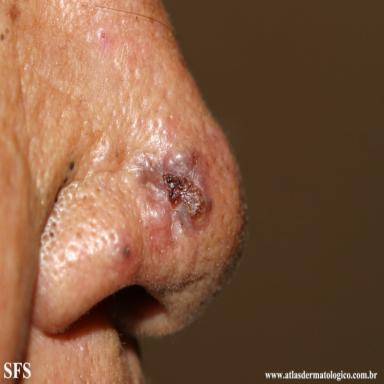basal-cell-carcinoma: (136, 150, 214, 235)
